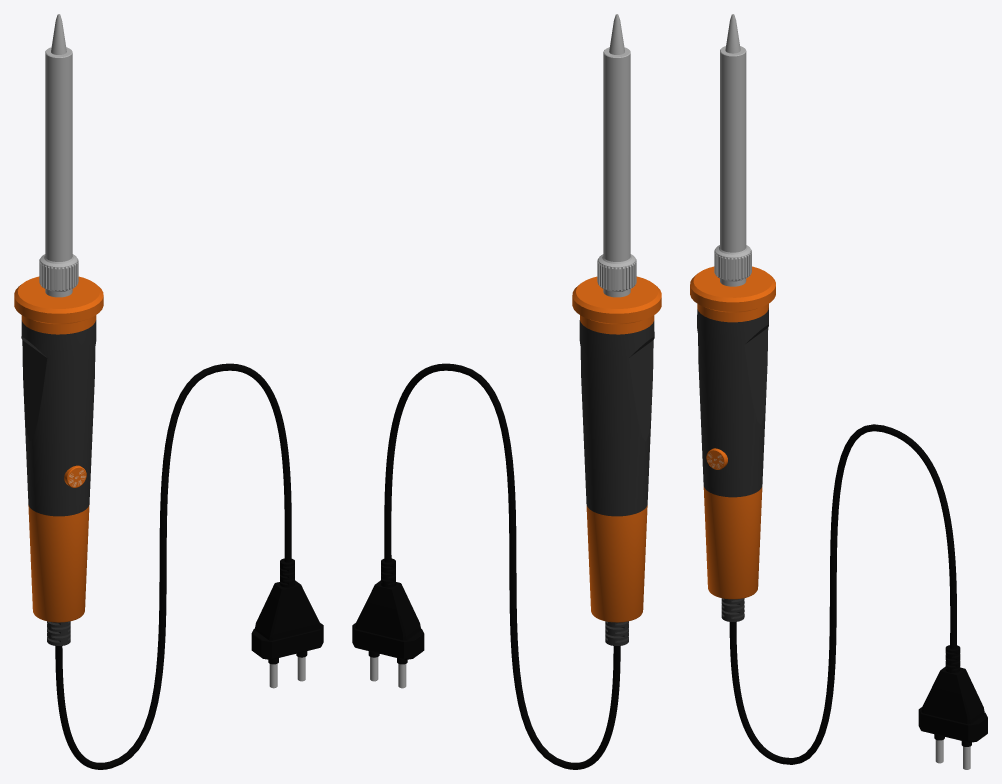
Rendered from soldering_iron.glb.
3 views of the same model, side by side, from view 1: azimuth 30°, elevation 25°; view 2: azimuth 150°, elevation 25°; view 3: azimuth 330°, elevation 25° (orthographic). The views are drawn at different scales.
Parts seen in each view (by area): view 1: Soldering Iron_0, Cable_2, Soldering Tip_1; view 2: Soldering Iron_0, Cable_2, Soldering Tip_1; view 3: Soldering Iron_0, Cable_2, Soldering Tip_1.
Boxes of the visible parts, box(x1,y1,x2,y2) form: Soldering Iron_0: box(14, 276, 103, 645); Cable_2: box(55, 363, 323, 769); Soldering Tip_1: box(39, 14, 78, 297); Soldering Iron_0: box(572, 276, 661, 645); Cable_2: box(352, 363, 620, 769); Soldering Tip_1: box(597, 14, 636, 297); Soldering Iron_0: box(690, 266, 775, 621); Cable_2: box(729, 424, 987, 769); Soldering Tip_1: box(714, 14, 751, 286).
Size of the model in its own units: 0.077 by 0.1888 by 0.02.
5 materials, 1 textured.
